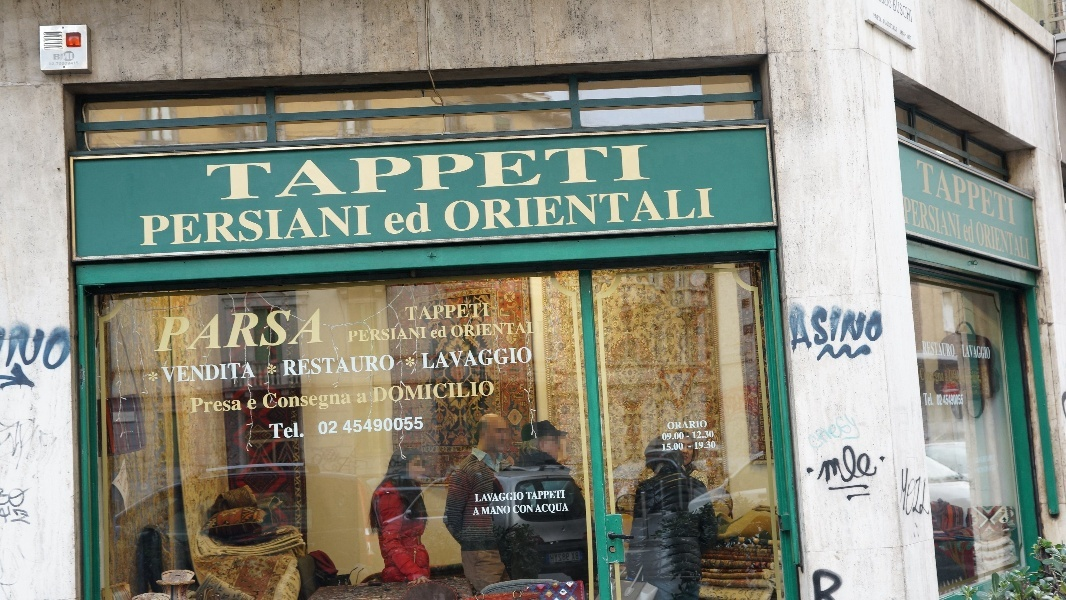text: (929, 158, 944, 227), (945, 158, 960, 227), (961, 158, 976, 227), (977, 158, 992, 227), (993, 158, 1008, 227), (209, 143, 224, 203), (225, 143, 240, 203), (241, 143, 256, 203), (257, 143, 272, 203), (273, 143, 288, 203), (289, 143, 304, 203), (305, 143, 320, 203), (321, 143, 336, 203), (337, 143, 352, 203), (353, 143, 368, 203), (369, 143, 384, 203), (385, 143, 400, 203), (401, 143, 416, 203), (417, 143, 432, 203), (433, 143, 448, 203), (449, 143, 464, 203), (465, 143, 480, 203), (481, 143, 496, 203), (497, 143, 512, 203), (513, 143, 528, 203), (529, 143, 544, 203), (545, 143, 560, 203), (561, 143, 576, 203), (577, 143, 592, 203), (593, 143, 608, 203), (609, 143, 624, 203), (625, 143, 640, 203), (916, 158, 928, 227), (913, 466, 928, 518), (449, 185, 464, 236), (465, 185, 480, 236), (481, 185, 496, 236), (497, 185, 512, 236), (513, 185, 528, 236), (529, 185, 544, 236), (545, 185, 560, 236), (561, 185, 576, 236), (577, 185, 592, 236), (593, 185, 608, 236), (609, 185, 624, 236), (625, 185, 640, 236), (641, 185, 656, 236), (657, 185, 672, 236), (673, 185, 688, 236), (689, 185, 704, 236), (801, 303, 816, 352), (817, 303, 832, 352), (833, 303, 848, 352), (849, 303, 864, 352), (865, 303, 880, 352), (17, 325, 32, 373), (33, 325, 48, 373), (49, 325, 64, 373), (161, 307, 176, 354), (177, 307, 192, 354), (193, 307, 208, 354), (209, 307, 224, 354), (225, 307, 240, 354), (241, 307, 256, 354), (257, 307, 272, 354), (273, 307, 288, 354), (289, 307, 304, 354), (305, 307, 320, 354), (865, 443, 881, 487), (913, 196, 928, 241), (929, 196, 944, 241), (945, 196, 960, 241), (641, 143, 652, 203), (833, 443, 848, 487), (849, 443, 864, 487), (145, 204, 160, 247), (161, 204, 176, 247), (177, 204, 192, 247), (193, 204, 208, 247), (209, 204, 224, 247), (225, 204, 240, 247), (241, 204, 256, 247), (257, 204, 272, 247), (273, 204, 288, 247), (289, 204, 304, 247), (305, 204, 320, 247), (321, 204, 336, 247), (337, 204, 352, 247), (353, 204, 368, 247), (817, 408, 832, 451), (833, 408, 848, 451), (977, 220, 992, 262), (993, 220, 1008, 262), (1009, 220, 1024, 262), (705, 185, 717, 236), (385, 199, 400, 238), (401, 199, 416, 238), (417, 199, 432, 238), (849, 408, 862, 451), (1009, 158, 1017, 227), (200, 143, 208, 203), (903, 466, 912, 518), (791, 303, 800, 352), (807, 408, 816, 451), (433, 345, 448, 370), (449, 345, 464, 370), (465, 345, 480, 370), (481, 345, 496, 370), (497, 345, 512, 370), (513, 345, 528, 370), (385, 379, 400, 404), (401, 379, 416, 404), (417, 379, 432, 404), (433, 379, 448, 404), (449, 379, 464, 404), (465, 379, 480, 404), (963, 216, 976, 244), (904, 196, 912, 241), (897, 1, 913, 23), (481, 379, 495, 404), (289, 354, 304, 377), (305, 354, 320, 377), (321, 354, 336, 377), (337, 354, 352, 377), (353, 354, 368, 377), (369, 354, 384, 377), (241, 362, 257, 383), (337, 393, 353, 413), (161, 362, 176, 383), (177, 362, 192, 383), (193, 362, 208, 383), (209, 362, 224, 383), (225, 362, 240, 383), (289, 421, 305, 440), (929, 367, 945, 386), (273, 393, 288, 413), (289, 393, 304, 413), (305, 393, 320, 413), (321, 393, 336, 413), (372, 379, 384, 404), (65, 325, 71, 373), (273, 421, 288, 440), (353, 416, 368, 435), (369, 416, 384, 435), (385, 416, 400, 435), (401, 416, 416, 435), (421, 345, 432, 370), (417, 303, 432, 321), (433, 303, 448, 321), (449, 303, 464, 321), (465, 303, 480, 321), (193, 398, 208, 416), (209, 398, 224, 416), (225, 398, 240, 416), (929, 341, 944, 358), (385, 354, 396, 377), (11, 325, 16, 373), (353, 327, 368, 343), (369, 327, 384, 343), (385, 327, 400, 343), (401, 327, 416, 343), (465, 322, 480, 338), (481, 322, 496, 338), (497, 322, 512, 338), (513, 322, 528, 338), (977, 344, 992, 360), (321, 307, 326, 354), (321, 420, 336, 435), (545, 503, 560, 518), (962, 344, 976, 360), (139, 204, 144, 247), (1025, 220, 1030, 262), (961, 369, 976, 383), (451, 322, 464, 338), (444, 185, 448, 236), (945, 341, 957, 358), (262, 393, 272, 413), (405, 303, 416, 321), (433, 326, 448, 339), (883, 19, 896, 33), (945, 394, 960, 406), (828, 443, 832, 487), (481, 492, 496, 503), (497, 492, 512, 503), (529, 490, 544, 501), (545, 490, 560, 501), (481, 505, 496, 516), (497, 505, 512, 516), (561, 552, 576, 563), (481, 303, 490, 321), (417, 327, 427, 343), (900, 29, 912, 42), (949, 369, 960, 383), (920, 367, 928, 386), (945, 373, 960, 383), (673, 420, 688, 430), (689, 420, 704, 430), (282, 354, 288, 377), (513, 505, 528, 514), (561, 503, 570, 518), (345, 416, 352, 435), (417, 416, 424, 435), (357, 392, 368, 404), (513, 492, 525, 503), (369, 204, 372, 247), (549, 552, 560, 563), (381, 199, 384, 238), (247, 399, 256, 412), (705, 441, 717, 450), (537, 503, 544, 518), (929, 466, 931, 518), (922, 341, 928, 358), (529, 345, 533, 370), (881, 303, 883, 352), (529, 322, 535, 338), (961, 196, 963, 241), (694, 441, 704, 450), (53, 53, 64, 61), (881, 1, 892, 9), (673, 433, 684, 441), (693, 431, 704, 439), (673, 443, 684, 451), (929, 393, 935, 407), (937, 394, 944, 406), (662, 433, 672, 441), (662, 443, 672, 451), (268, 421, 272, 440), (49, 61, 64, 66), (65, 53, 74, 61), (705, 431, 714, 439), (65, 61, 79, 66), (923, 393, 928, 407), (474, 492, 480, 503), (874, 13, 880, 24), (893, 1, 896, 23), (348, 327, 352, 343), (561, 490, 566, 501), (667, 420, 672, 430), (961, 394, 965, 406), (317, 420, 320, 435), (475, 507, 480, 516), (529, 505, 534, 514), (705, 420, 709, 430), (190, 398, 192, 416), (241, 398, 243, 416), (525, 490, 528, 501), (577, 552, 580, 563), (337, 420, 339, 435), (689, 446, 704, 448), (977, 369, 979, 383), (257, 399, 259, 412), (881, 13, 883, 24), (897, 19, 898, 33), (943, 394, 944, 406), (687, 436, 688, 438), (689, 436, 690, 438)
